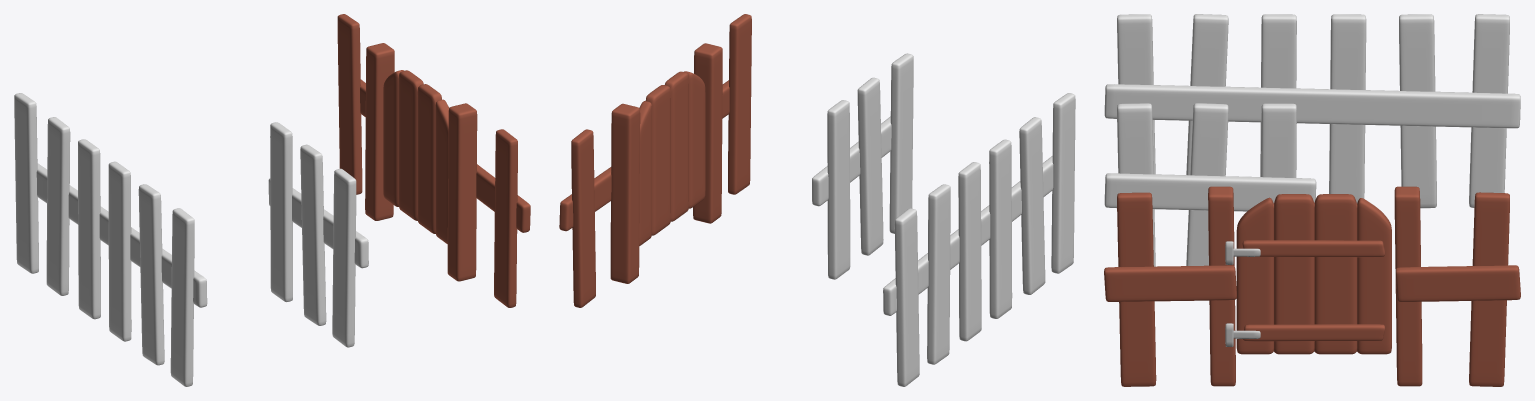
The model's file is Fence.fbx.
3 views of the same model, side by side, from view 1: azimuth 30°, elevation 25°; view 2: azimuth 150°, elevation 25°; view 3: azimuth 270°, elevation 25° (orthographic). The views are drawn at different scales.
Parts seen in each view (by area): view 1: MediumFence, GateFence, SmallFence, GateGate; view 2: MediumFence, GateFence, SmallFence, GateGate; view 3: MediumFence, GateFence, GateGate, SmallFence.
Boxes of the visible parts, bbox=[...] form: MediumFence: bbox=[14, 93, 207, 386]; GateFence: bbox=[337, 14, 530, 307]; SmallFence: bbox=[268, 122, 368, 347]; GateGate: bbox=[383, 70, 448, 243]; MediumFence: bbox=[883, 93, 1075, 386]; GateFence: bbox=[559, 14, 751, 307]; SmallFence: bbox=[812, 53, 913, 279]; GateGate: bbox=[639, 71, 705, 245]; MediumFence: bbox=[1104, 14, 1520, 208]; GateFence: bbox=[1104, 186, 1520, 386]; GateGate: bbox=[1233, 194, 1391, 354]; SmallFence: bbox=[1104, 103, 1316, 266].
Bounding box in the file's own units: 210 × 100 × 198.
